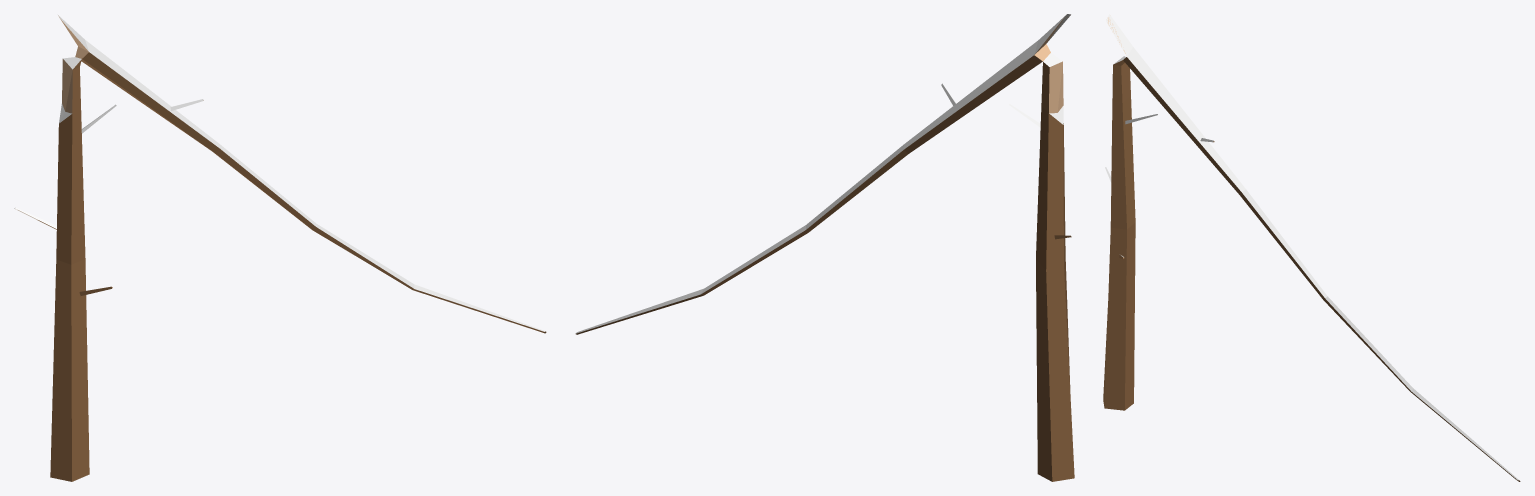
The model's file is Pine_Tree_NoLeaves_crk_l_Snow_06.fbx.
3 renders of one model, left to right at view 1: azimuth 30°, elevation 25°; view 2: azimuth 150°, elevation 25°; view 3: azimuth 330°, elevation 25°, orthographic. The views are drawn at different scales.
Visible parts, largest first — view 1: Pine_Tree_NoLeaves_crk_l_Snow_06; view 2: Pine_Tree_NoLeaves_crk_l_Snow_06; view 3: Pine_Tree_NoLeaves_crk_l_Snow_06.
Part boxes in pixels (x1=…): Pine_Tree_NoLeaves_crk_l_Snow_06: x1=14, y1=14, x2=546, y2=481; Pine_Tree_NoLeaves_crk_l_Snow_06: x1=575, y1=14, x2=1074, y2=481; Pine_Tree_NoLeaves_crk_l_Snow_06: x1=1103, y1=14, x2=1520, y2=481.
Bounding box in the file's own units: 1023 × 878 × 133.
